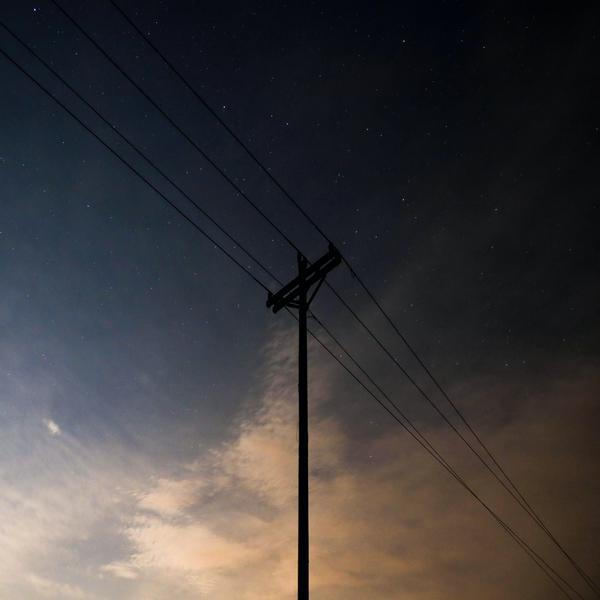utility_pole: (257, 236, 350, 335)
